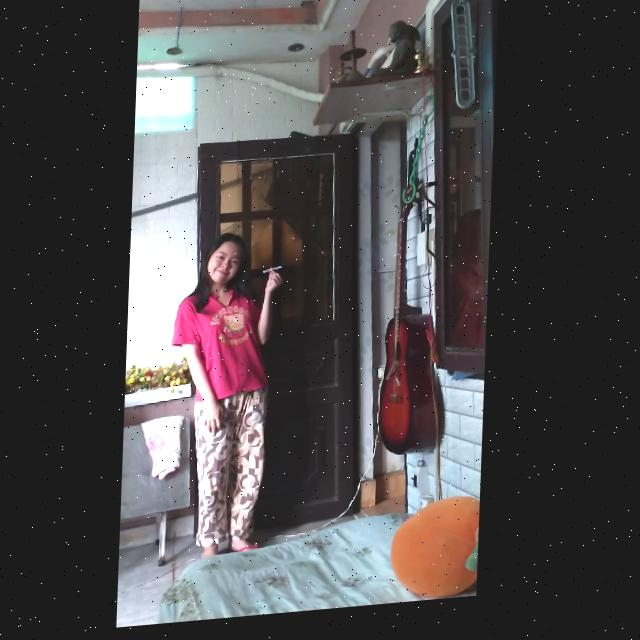cigarette: (265, 272, 284, 279)
